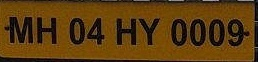character: (8, 15, 34, 45), (137, 15, 160, 46), (35, 15, 58, 45), (115, 16, 138, 46), (85, 16, 105, 45), (169, 17, 188, 46), (68, 16, 86, 46), (226, 17, 244, 47), (188, 18, 206, 47), (207, 18, 225, 46)
